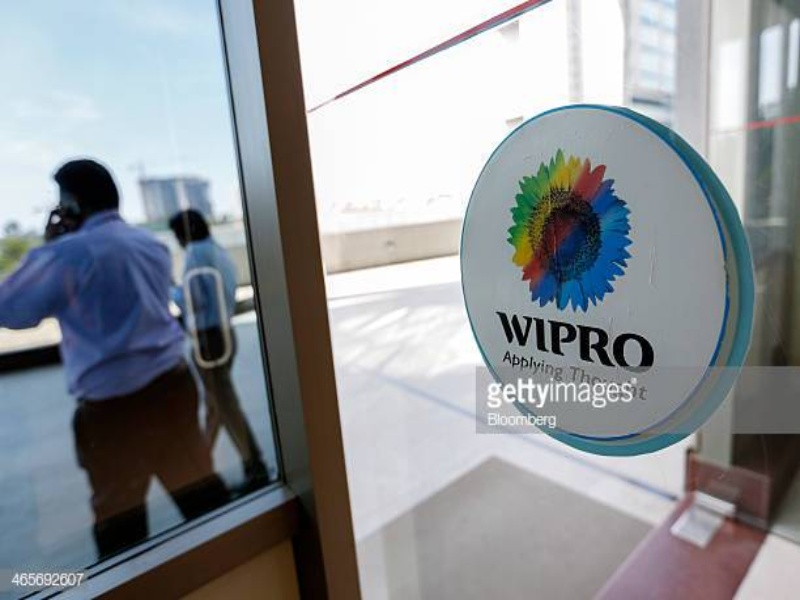wipro: (508, 147, 635, 315)
